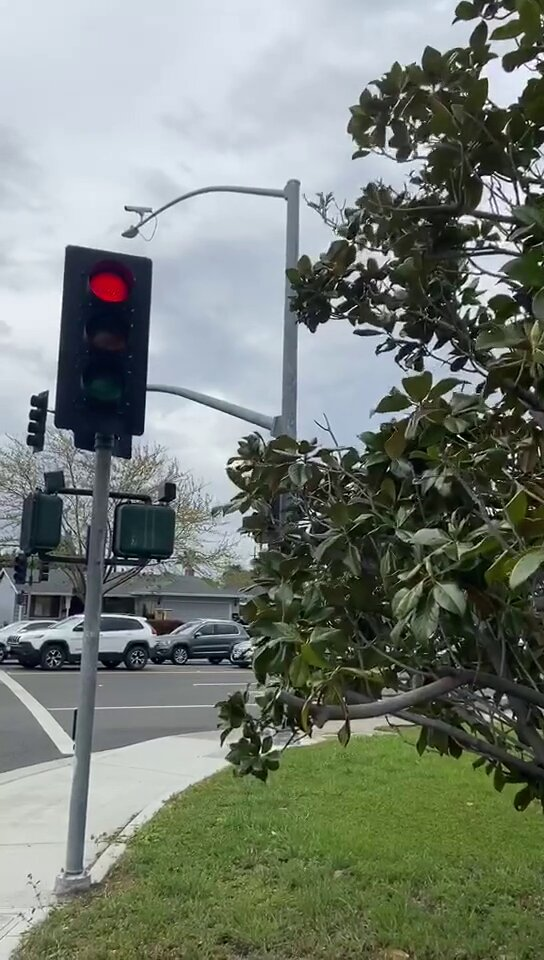red_light: (65, 259, 145, 433)
